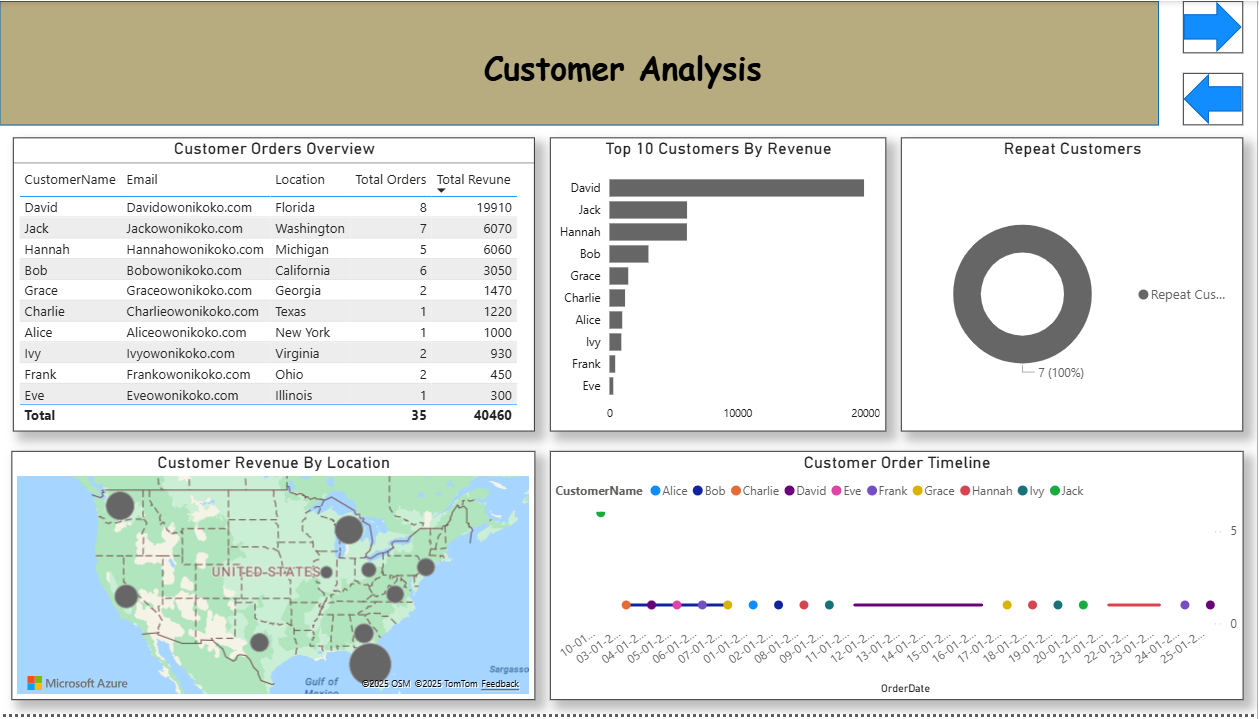

The page's visual inventory and layout, read from the dashboard file:
{"tool":"powerbi","page":{"name":"Customer Analysis","canvas":[1280,720],"ordinal":1},"visuals":[{"type":"shape","box":[1205.3,0,60.6,53],"z":0},{"type":"shape","box":[10.6,0,1170.5,125.7],"z":1000},{"type":"textbox","box":[11,190,1060,150],"z":2000},{"type":"shape","box":[1205.3,72.7,60.6,53],"z":3000},{"type":"tableEx","title":"Customer Orders Overview ","fields":{"Values":["Customers.CustomerName","Customers.Email","Customers.Location","Orders.Total Orders","Customers.Total Revune"]},"box":[24.2,137.8,526.9,296.8],"z":4000},{"type":"textbox","box":[449.7,39.4,380.1,66.6],"z":5000},{"type":"azureMap","title":"Customer Revenue By Location ","fields":{"Values":["Customers.Location"],"Category":["Customers.Location"],"Size":["Customers.Total Revune"]},"box":[22.7,454.3,528.5,251.4],"z":6000},{"type":"clusteredBarChart","title":"Top 10 Customers By Revenue","fields":{"Category":["Customers.CustomerName"],"Y":["Customers.Total Revune"]},"box":[566.3,137.8,339.2,296.8],"z":7000},{"type":"donutChart","title":"Repeat Customers ","fields":{"Y":["Customers.Repeat Customers"]},"box":[920.6,137.8,345.2,296.8],"z":8000},{"type":"lineChart","title":"Customer Order Timeline ","fields":{"Y2":["Orders.Total Orders"],"Category":["Orders.OrderDate.Variation.Date Hierarchy.Year"],"Series":["Customers.CustomerName"]},"box":[566,454.9,699.8,251],"z":9000}]}

Visuals, with their boxes in screenshot pixels (x1, y1, x2, y2), scaled from the page's 1280x720 canvas onto the 1259x719 screenshot:
shape: (left=1186, top=0, right=1245, bottom=53)
shape: (left=10, top=0, right=1162, bottom=126)
textbox: (left=11, top=190, right=1053, bottom=340)
shape: (left=1186, top=73, right=1245, bottom=126)
"Customer Orders Overview " tableEx: (left=24, top=138, right=542, bottom=434)
textbox: (left=442, top=39, right=816, bottom=106)
"Customer Revenue By Location " azureMap: (left=22, top=454, right=542, bottom=705)
"Top 10 Customers By Revenue" clusteredBarChart: (left=557, top=138, right=891, bottom=434)
"Repeat Customers " donutChart: (left=905, top=138, right=1245, bottom=434)
"Customer Order Timeline " lineChart: (left=557, top=454, right=1245, bottom=705)
